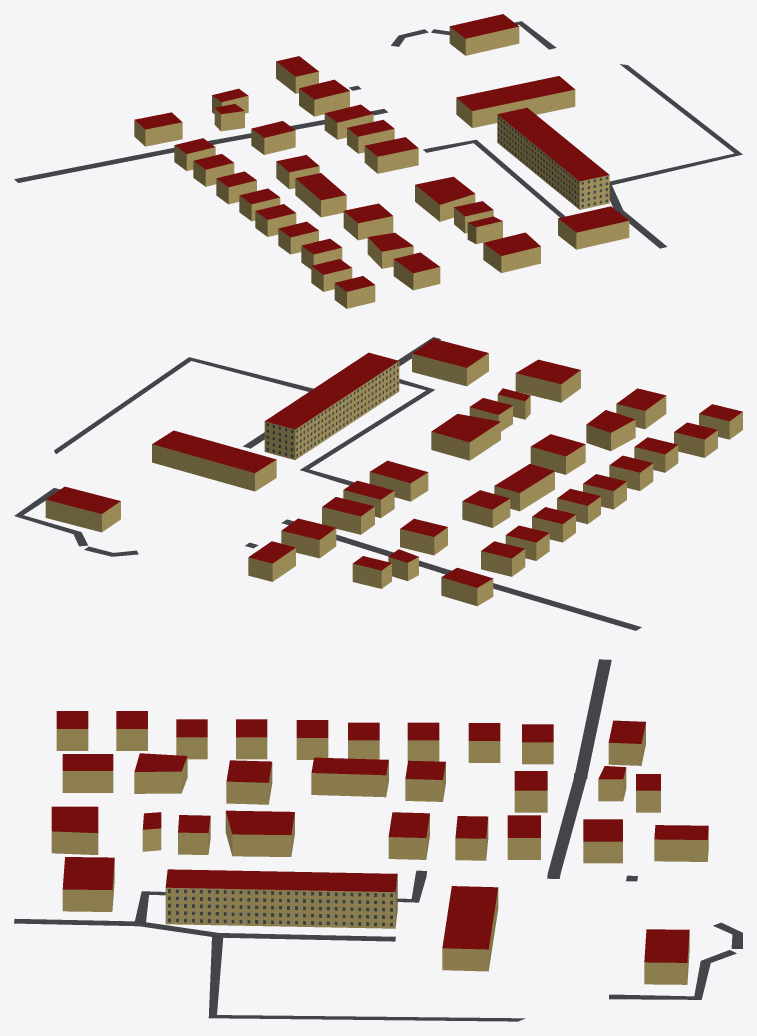
The model's file is district_0_-2.glb.
The picture shows the model from 3 angles, top to bottom: view 1: azimuth 30°, elevation 25°; view 2: azimuth 150°, elevation 25°; view 3: azimuth 270°, elevation 25°; orthographic projection. The views are drawn at different scales.
Visible parts, largest first — view 1: Building w44036589, Building w44036636, Building Мини-рынок "Южный", Building w44036732, Building w624700120, Building w44036565, Building w624700123, Building w624700122, Building w624700121, Building w44036713, Building w44036568, Building w625363633 (+23 smaller); view 2: Building w44036589, Building w44036636, Building Мини-рынок "Южный", Building w44036732, Building w624700120, Building w44036565, Building w624700123, Building w624700121, Building w624700122, Building w44036713, Road w165318626, Building w624700119 (+23 smaller); view 3: Building w44036589, Building w44036636, Building w624700120, Road w165318626, Building w624700123, Road Днепропетровская улица, Building Мини-рынок "Южный", Building w44036732, Building w44036565, Building w624700119, Building w44036568, Building w624699083 (+23 smaller).
Part boxes in pixels (<box>): Building w44036589: <box>497,107,609,209</box>; Building w44036636: <box>456,76,575,127</box>; Building Мини-рынок "Южный": <box>558,206,629,249</box>; Building w44036732: <box>449,14,519,55</box>; Building w624700120: <box>415,176,475,221</box>; Building w44036565: <box>483,232,540,272</box>; Building w624700123: <box>295,173,346,217</box>; Building w624700122: <box>364,137,418,173</box>; Building w624700121: <box>343,203,393,240</box>; Building w44036713: <box>299,79,349,116</box>; Building w44036568: <box>393,252,440,290</box>; Building w625363633: <box>134,112,182,146</box>; Building w44036589: <box>264,352,399,459</box>; Building w44036636: <box>152,430,276,491</box>; Building Мини-рынок "Южный": <box>412,338,488,386</box>; Building w44036732: <box>45,486,120,532</box>; Building w624700120: <box>431,414,500,460</box>; Building w44036565: <box>515,359,580,402</box>; Building w624700123: <box>494,464,554,511</box>; Building w624700121: <box>530,434,585,474</box>; Building w624700122: <box>369,460,428,501</box>; Building w44036713: <box>281,518,336,558</box>; Road w165318626: <box>54,357,313,453</box>; Building w624700119: <box>586,410,635,451</box>; Building w44036589: <box>165,869,397,928</box>; Building w44036636: <box>442,886,498,971</box>; Building w624700120: <box>225,810,294,856</box>; Road w165318626: <box>208,933,525,1021</box>; Building w624700123: <box>311,757,388,797</box>; Road Днепропетровская улица: <box>548,659,611,873</box>; Building Мини-рынок "Южный": <box>62,857,114,911</box>; Building w44036732: <box>644,929,689,984</box>; Building w44036565: <box>51,806,98,854</box>; Building w624700119: <box>134,753,187,793</box>; Building w44036568: <box>62,754,113,792</box>; Building w624699083: <box>654,825,708,861</box>.
Bounding box in the file's own units: 265 × 12.5 × 226.
4 materials, 4 textured.
